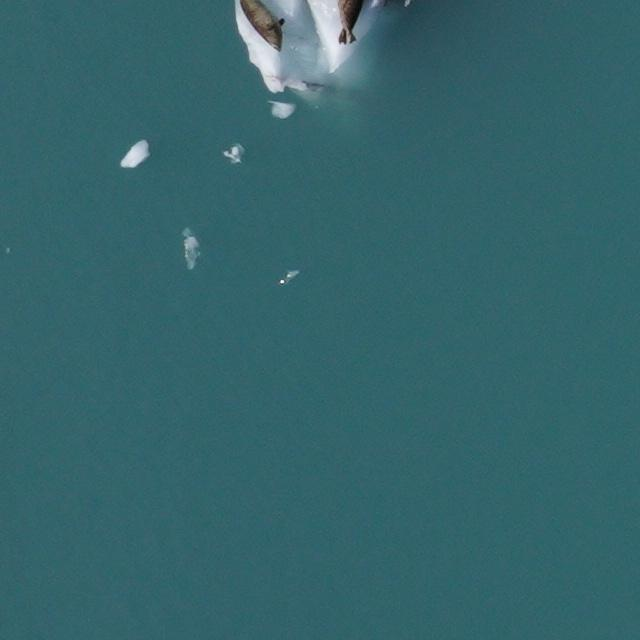seal: (336, 0, 364, 43)
